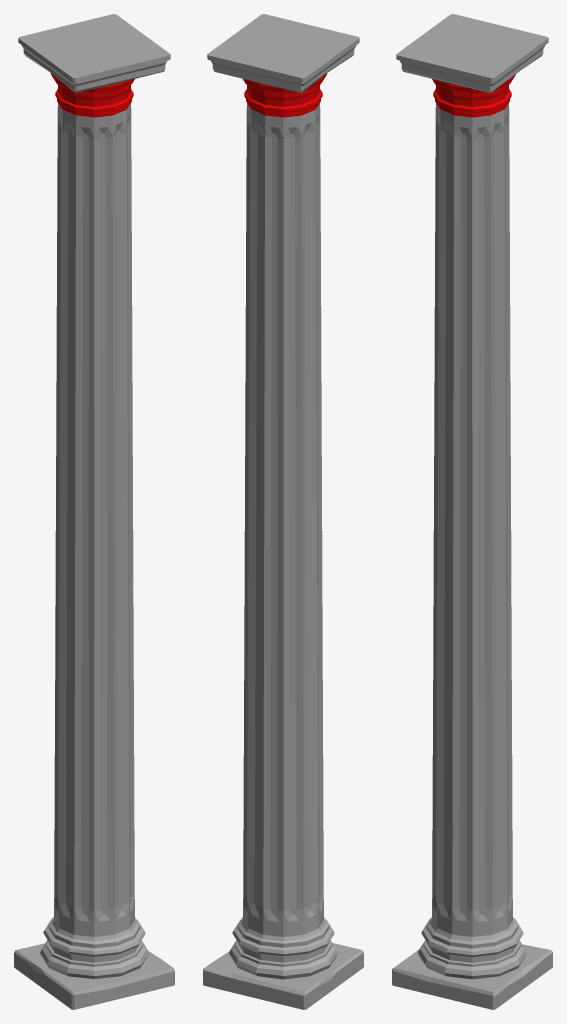
Rendered from SM_Bld_Pillar_Large_02.fbx.
The picture shows the model from 3 angles, left to right: view 1: azimuth 30°, elevation 25°; view 2: azimuth 150°, elevation 25°; view 3: azimuth 330°, elevation 25°; orthographic projection.
Visible parts, largest first — view 1: SM_Bld_Pillar_Large_02; view 2: SM_Bld_Pillar_Large_02; view 3: SM_Bld_Pillar_Large_02.
Part boxes in pixels (x1=…): SM_Bld_Pillar_Large_02: x1=14, y1=14, x2=174, y2=1009; SM_Bld_Pillar_Large_02: x1=203, y1=14, x2=363, y2=1009; SM_Bld_Pillar_Large_02: x1=392, y1=14, x2=552, y2=1009.
Bounding box in the file's own units: 69.73 × 600 × 69.73.
